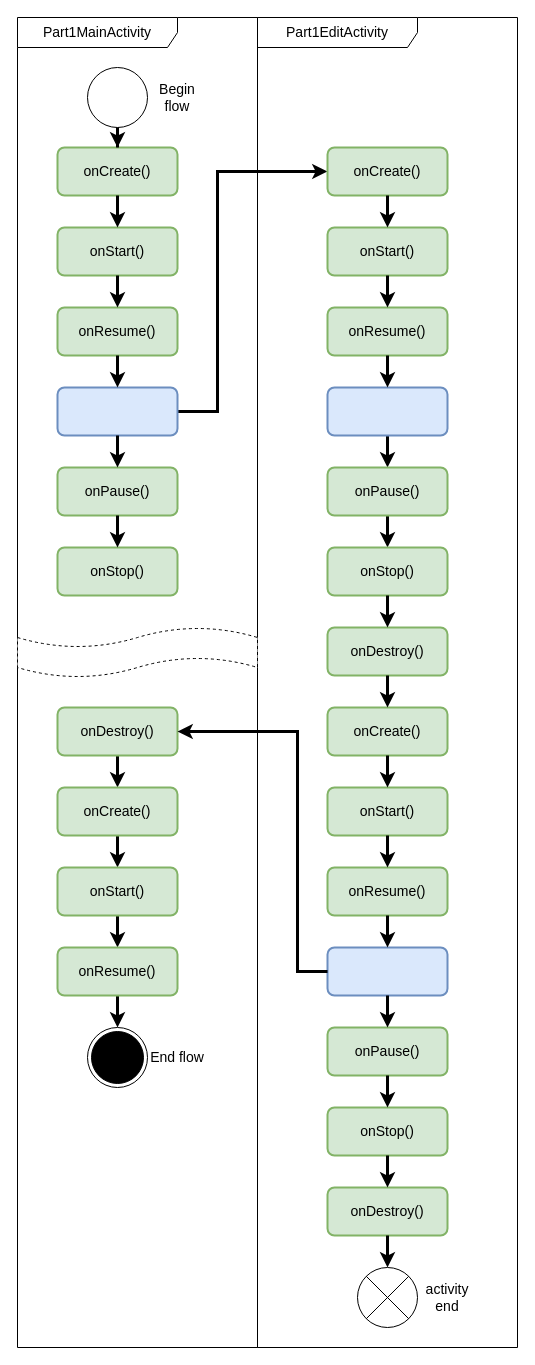
Some shapes in this 535 by 1365 pixel diagram are drawn without their labels. The centre of each missing label's shape, as x and y in pixels:
User clicks on edit: (x=117, y=411)
User clicks on save: (x=387, y=971)
User rotates the screen: (x=387, y=411)
